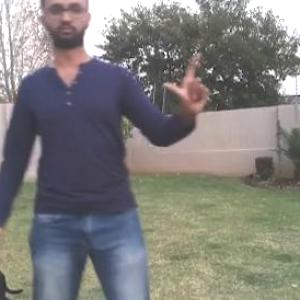land_hand: (160, 48, 210, 116)
